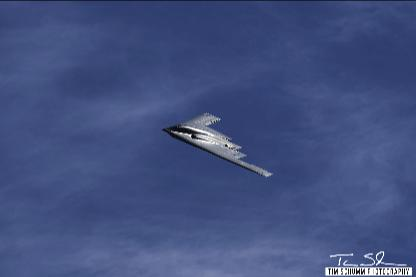B1: (161, 111, 273, 176)
